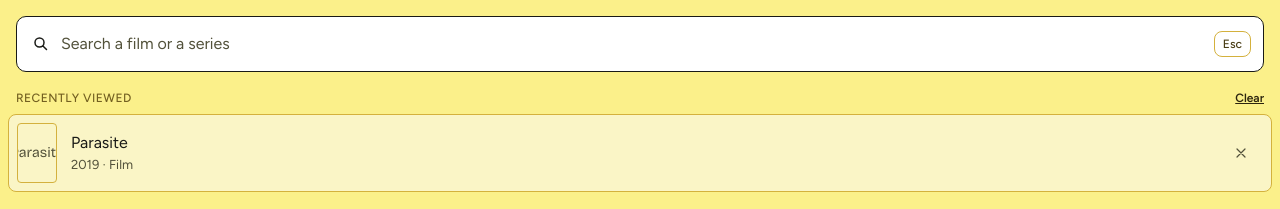
Scenario: SearchCombobox › returns focus to the field when the last title is removed
Click the button named "Remove Parasite from recently viewed".
click(1241, 153)  # box [1219,131,1263,175]
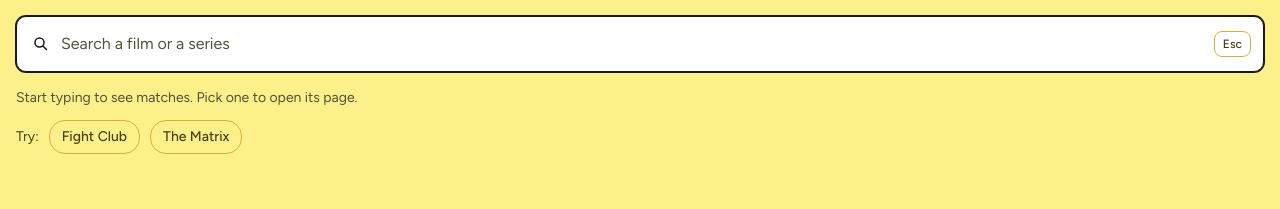
Check: the text "Start typing to see matches. Pick one to open its page." is shown, box [16,89,358,106]
